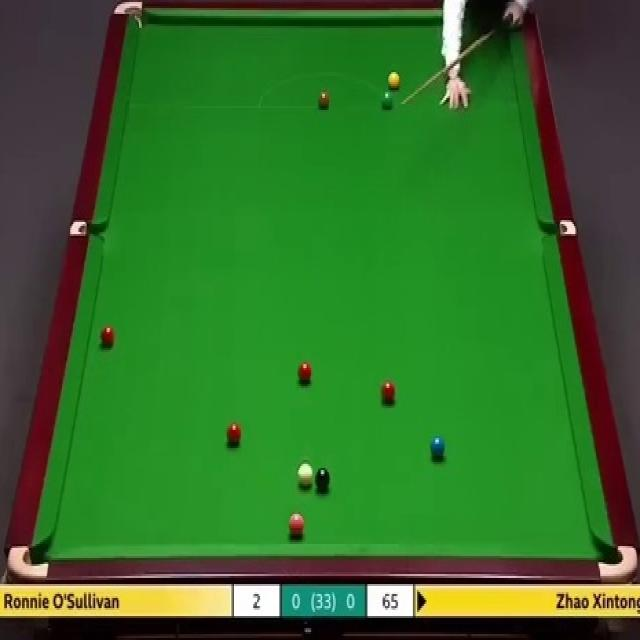pocket: (597, 540, 637, 583), (7, 543, 49, 582), (113, 0, 143, 28), (69, 220, 107, 237), (540, 220, 574, 235)
